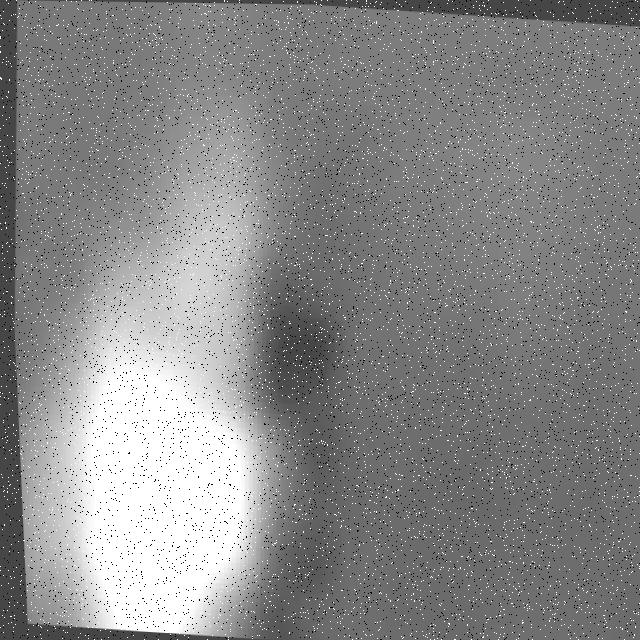person: (4, 98, 314, 640)
